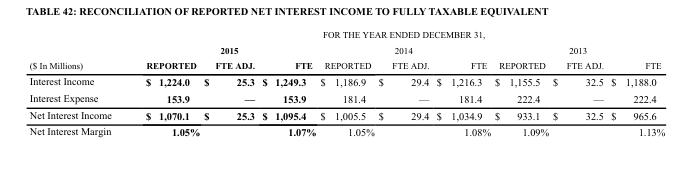table: (28, 29, 664, 137)
table column: (28, 29, 128, 137), (128, 29, 201, 137), (257, 29, 317, 137), (432, 29, 491, 137), (491, 29, 550, 137), (317, 29, 375, 137), (606, 29, 664, 137), (375, 29, 432, 137), (201, 29, 257, 137), (550, 29, 606, 137)
table column header: (28, 29, 664, 72)
table row: (28, 72, 664, 89), (28, 89, 664, 106), (28, 106, 664, 123), (28, 42, 664, 57), (28, 57, 664, 72), (28, 123, 664, 137), (28, 29, 664, 42)
table spanning cell: (128, 29, 664, 42), (28, 29, 128, 72), (128, 42, 317, 57), (317, 42, 491, 57), (491, 42, 664, 57)
